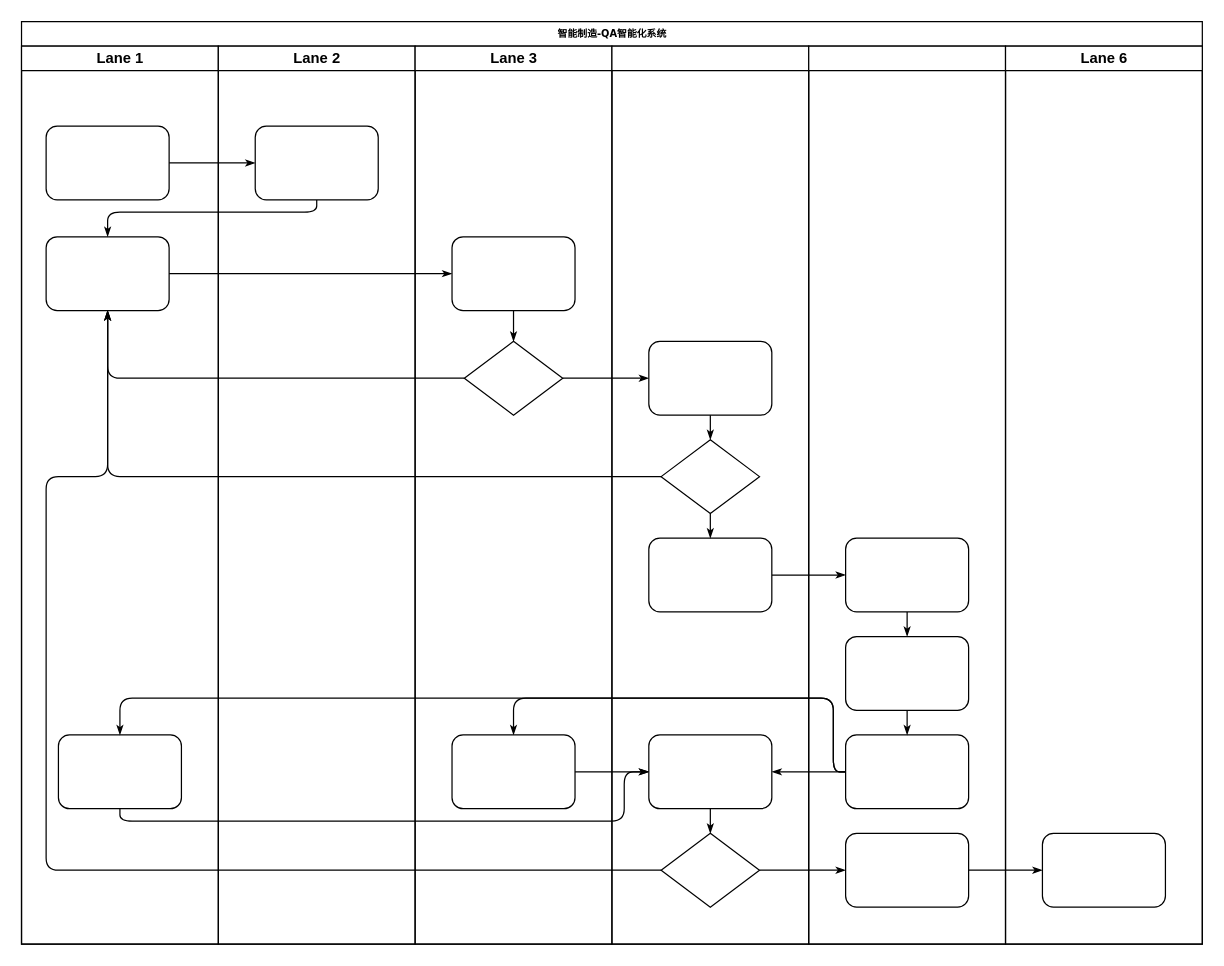
Some shapes in this 1224 by 966 pixel diagram are drawn without their labels. The shapes that lost their labels are listed below. From the top down, each one's box as (x1, y1, x2, y2) in pixels, then its label:
(611, 45, 809, 944): Lane 4
(807, 45, 1006, 944): Lane 5
